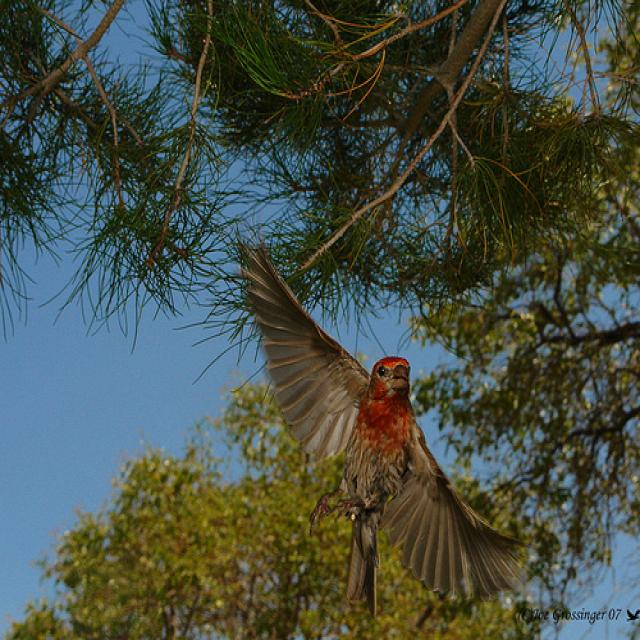bird: (246, 256, 524, 607)
